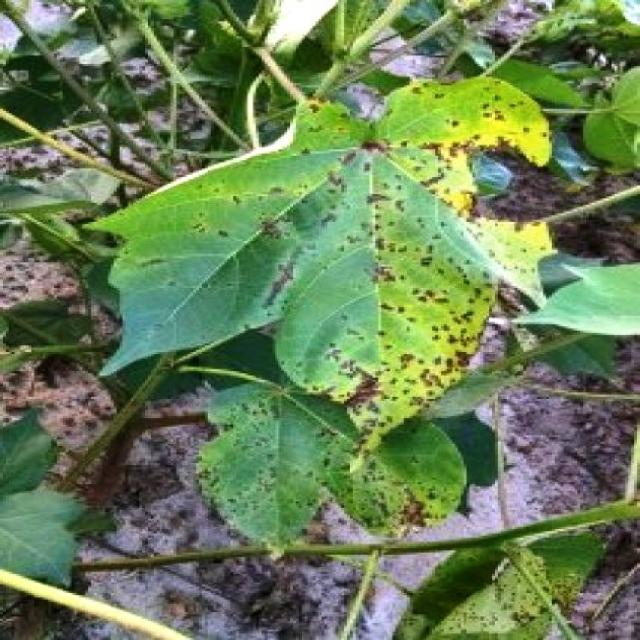Bacterial Blight: (316, 120, 558, 415)
